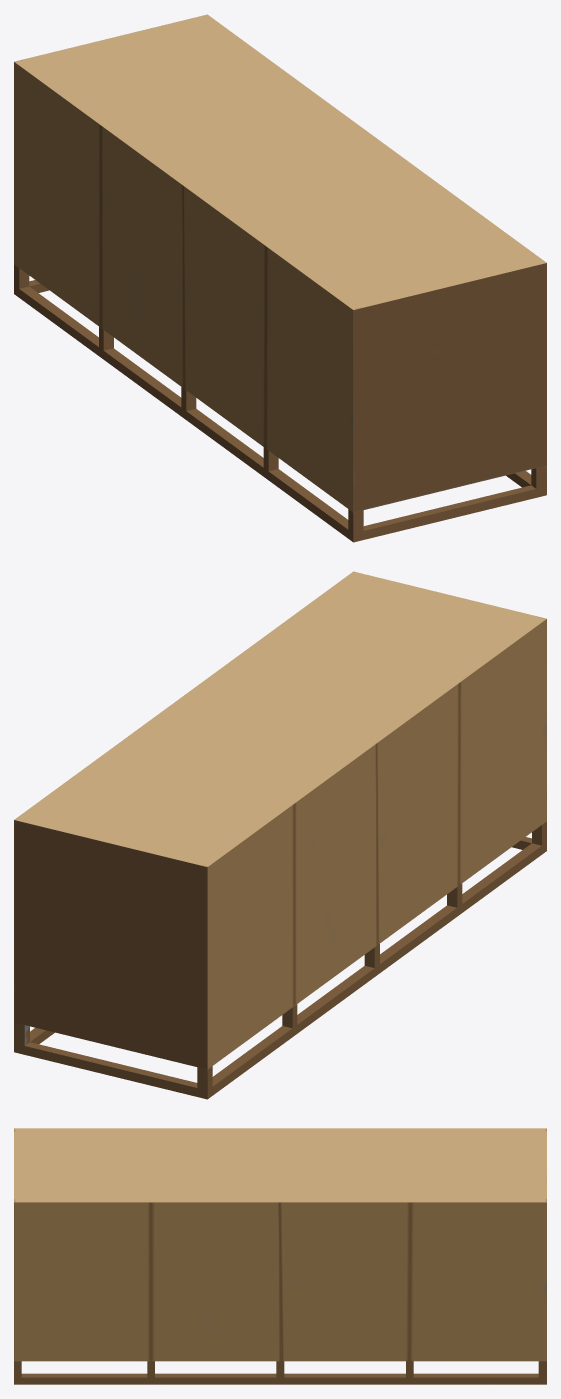
File: Desk.gltf
The picture shows the model from 3 angles, top to bottom: view 1: azimuth 30°, elevation 25°; view 2: azimuth 150°, elevation 25°; view 3: azimuth 270°, elevation 25°; orthographic projection. The views are drawn at different scales.
Visible parts, largest first — view 1: Cube; view 2: Cube; view 3: Cube.
Boxes of the visible parts, x1=… form: Cube: x1=14, y1=14, x2=546, y2=542; Cube: x1=14, y1=571, x2=546, y2=1099; Cube: x1=14, y1=1128, x2=546, y2=1384.
Bounding box in the file's own units: 2.24 × 2.57 × 6.8.
Materials: 1 (1 with a texture image).
